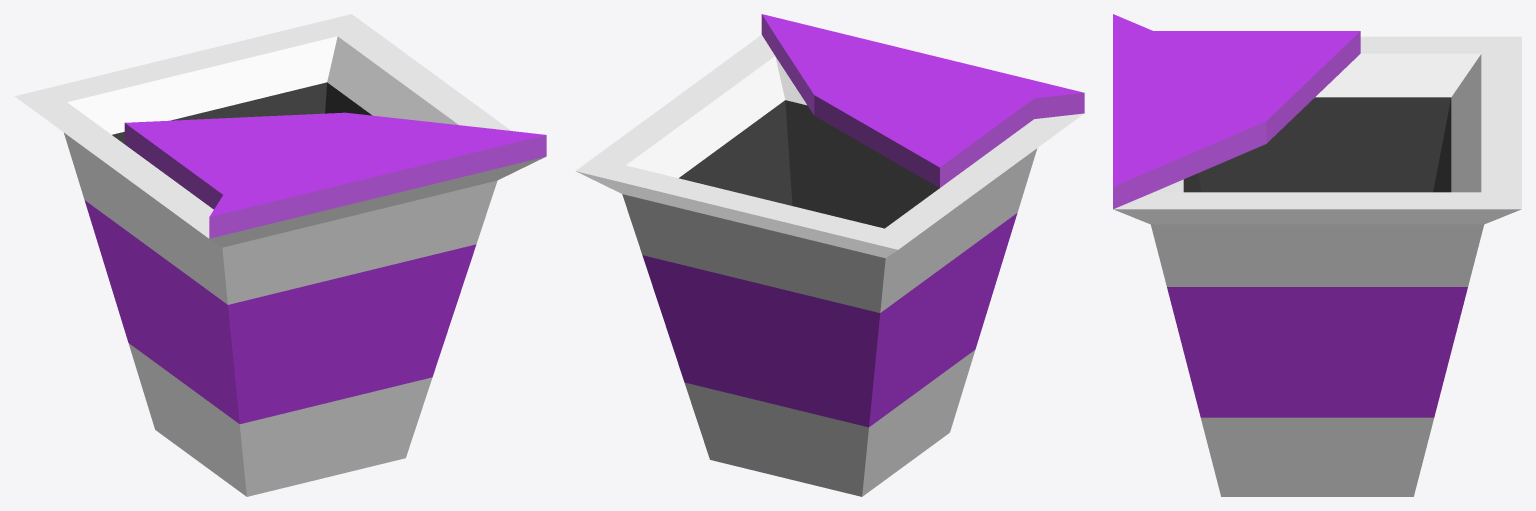
Rendered from Purpule_yogurt.fbx.
3 renders of one model, left to right at view 1: azimuth 30°, elevation 25°; view 2: azimuth 150°, elevation 25°; view 3: azimuth 270°, elevation 25°, orthographic. The views are drawn at different scales.
Visible parts, largest first — view 1: Cube.014; view 2: Cube.014; view 3: Cube.014.
Boxes of the visible parts, x1,y1,x2,y2 form: Cube.014: (15,14,546,496); Cube.014: (575,14,1084,496); Cube.014: (1113,14,1521,496).
Size of the model in its own units: 95.16 by 91.44 by 95.16.
